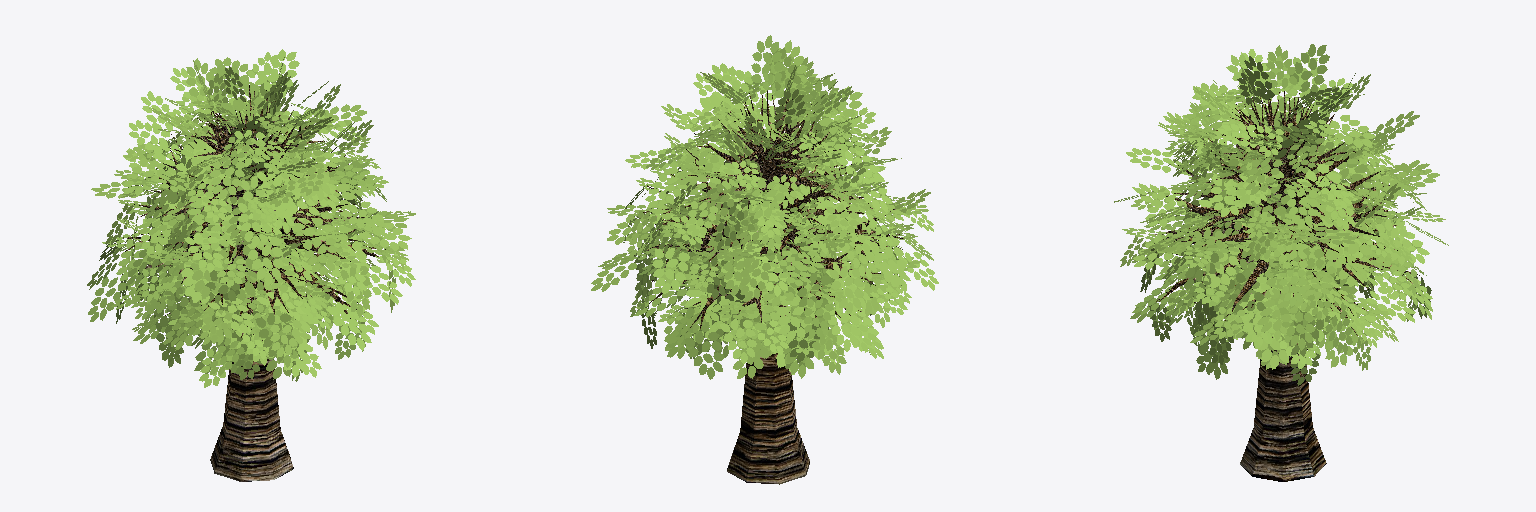
3 renders of one model, left to right at view 1: azimuth 30°, elevation 25°; view 2: azimuth 150°, elevation 25°; view 3: azimuth 270°, elevation 25°, orthographic.
Parts seen in each view (by area): view 1: leaves, tree_tree.005; view 2: leaves, tree_tree.005; view 3: leaves, tree_tree.005.
Boxes of the visible parts, box(x1,y1,x2,y2) form: leaves: box(87, 49, 415, 387); tree_tree.005: box(122, 85, 385, 481); leaves: box(591, 35, 938, 379); tree_tree.005: box(634, 90, 903, 484); leaves: box(1114, 44, 1448, 385); tree_tree.005: box(1154, 89, 1419, 481).
Size of the model in its own units: 9.36 by 12.93 by 9.93.
2 materials, 2 textured.